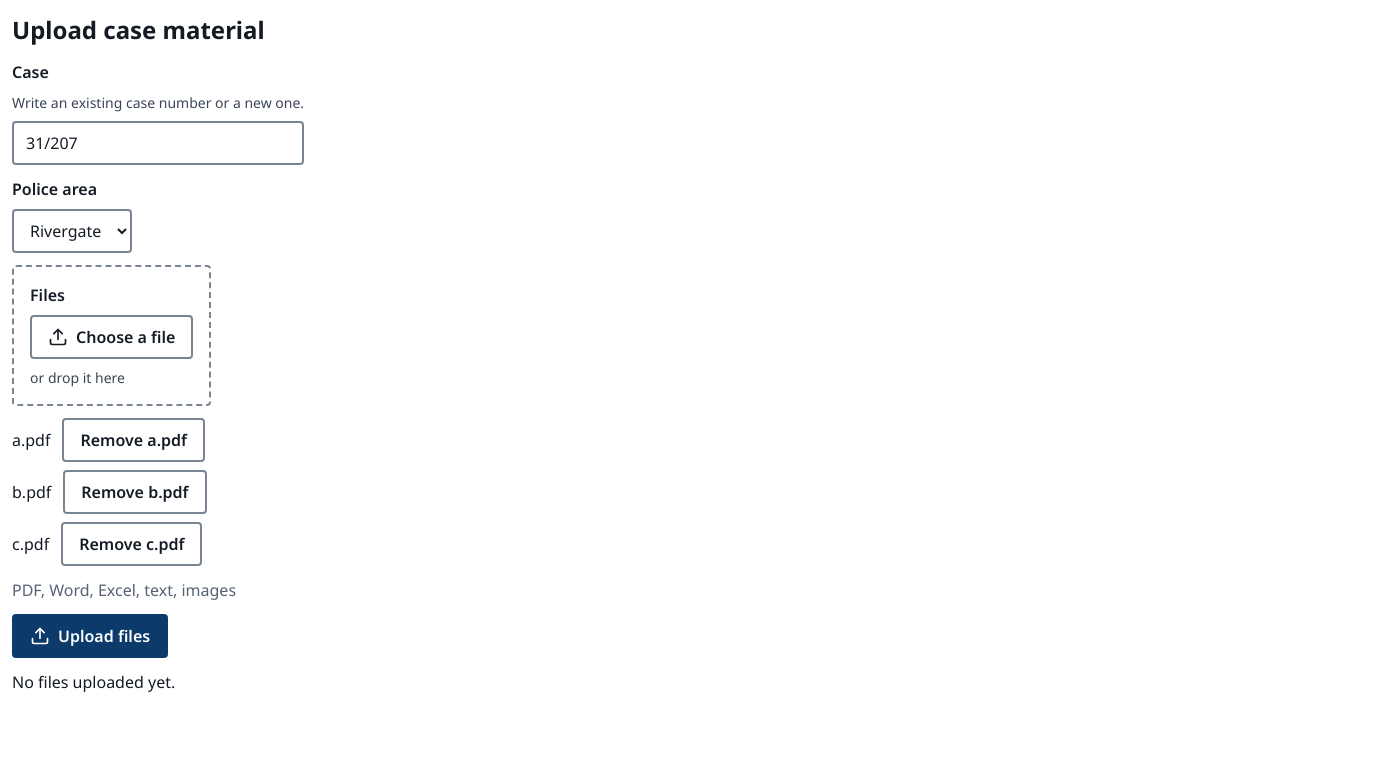
Scenario: every picked file is listed with a Remove button, and only the kept files are sent
Earlier steps of the test are not shown.
Expected: the number of list items is 3, [12,418,206,462]; [12,470,206,514]; [12,522,206,566]
Click the button "Remove b.pdf": (135, 492) [63,470,206,514]
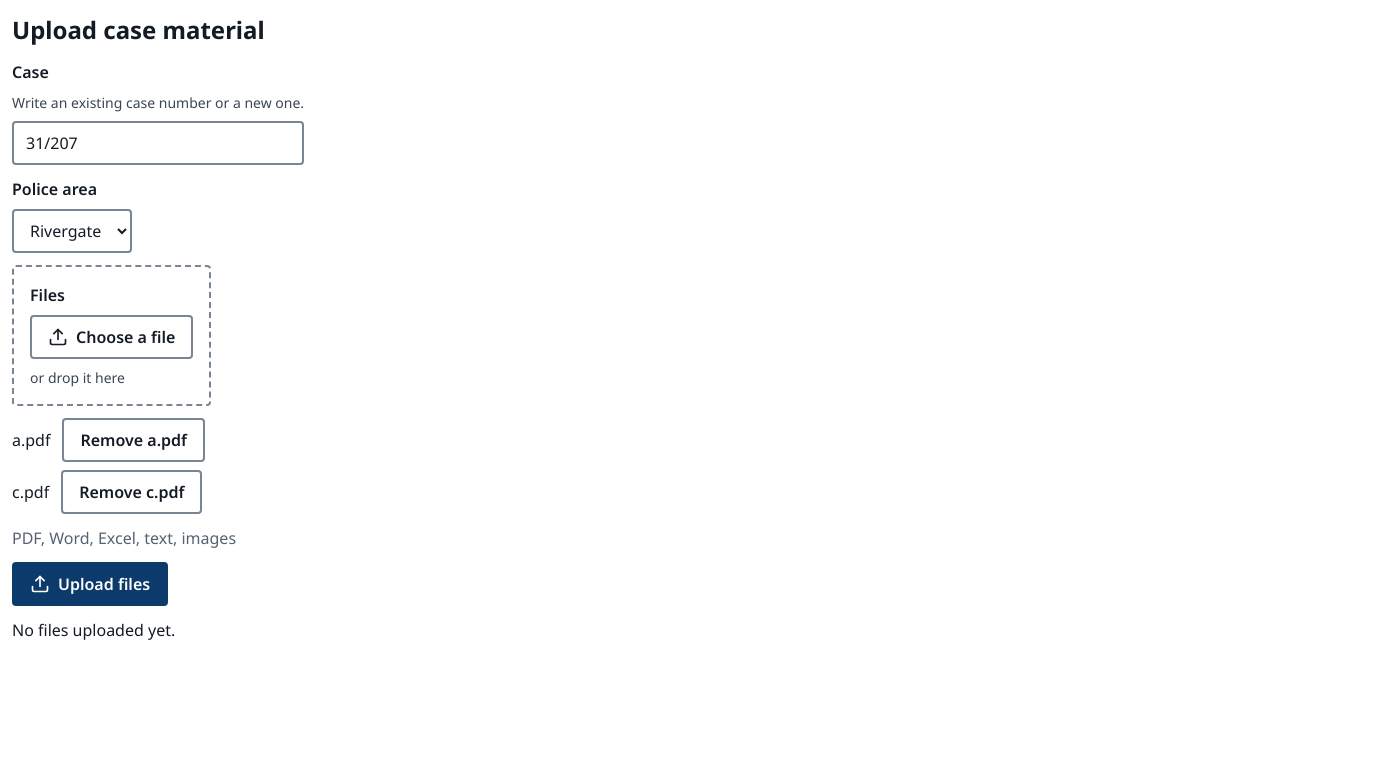
Now the number of list items is 2, box [12,418,205,462]; [12,470,205,514]
Click the button "Upload files": (90, 584) [12,562,168,606]
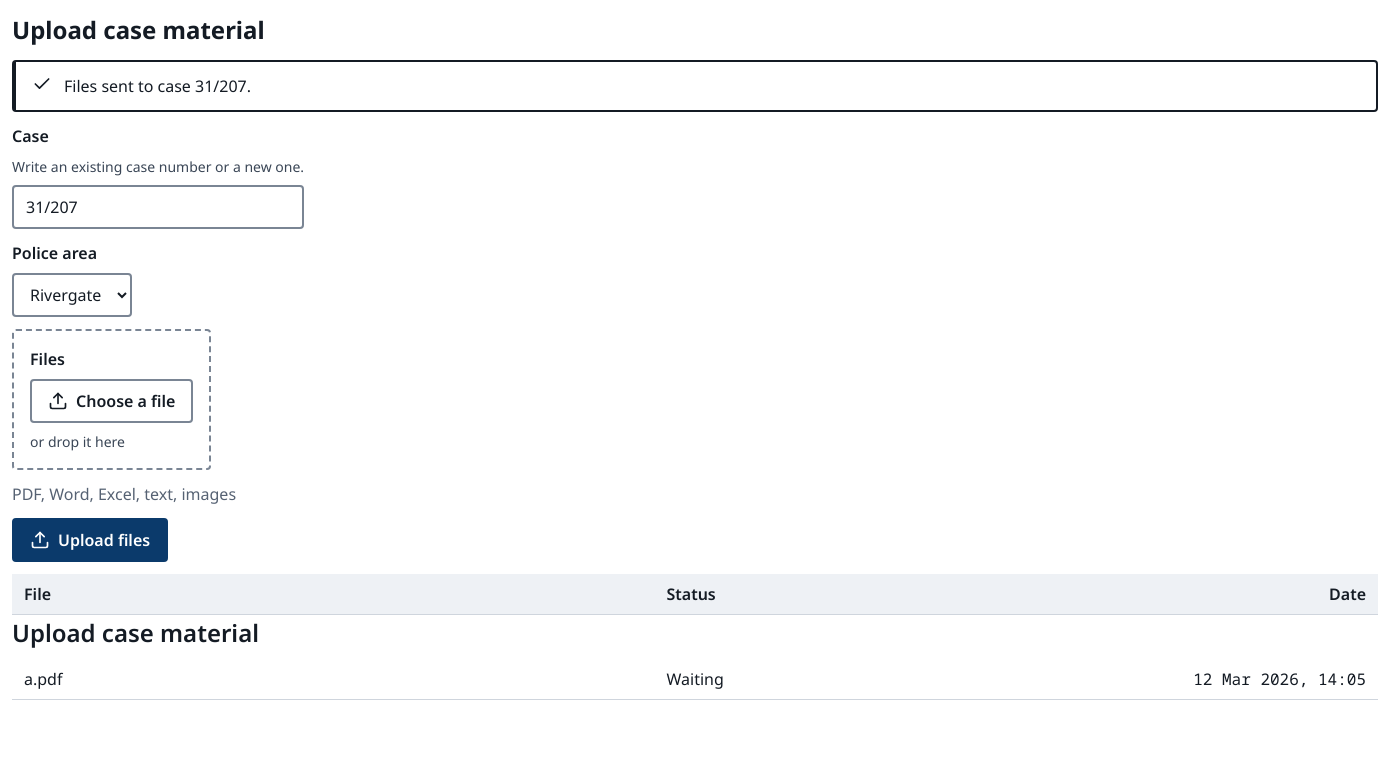
Now the text "Files sent to case 31/207." is shown, box [64,75,251,97]
Now the button "Remove a.pdf" is gone
